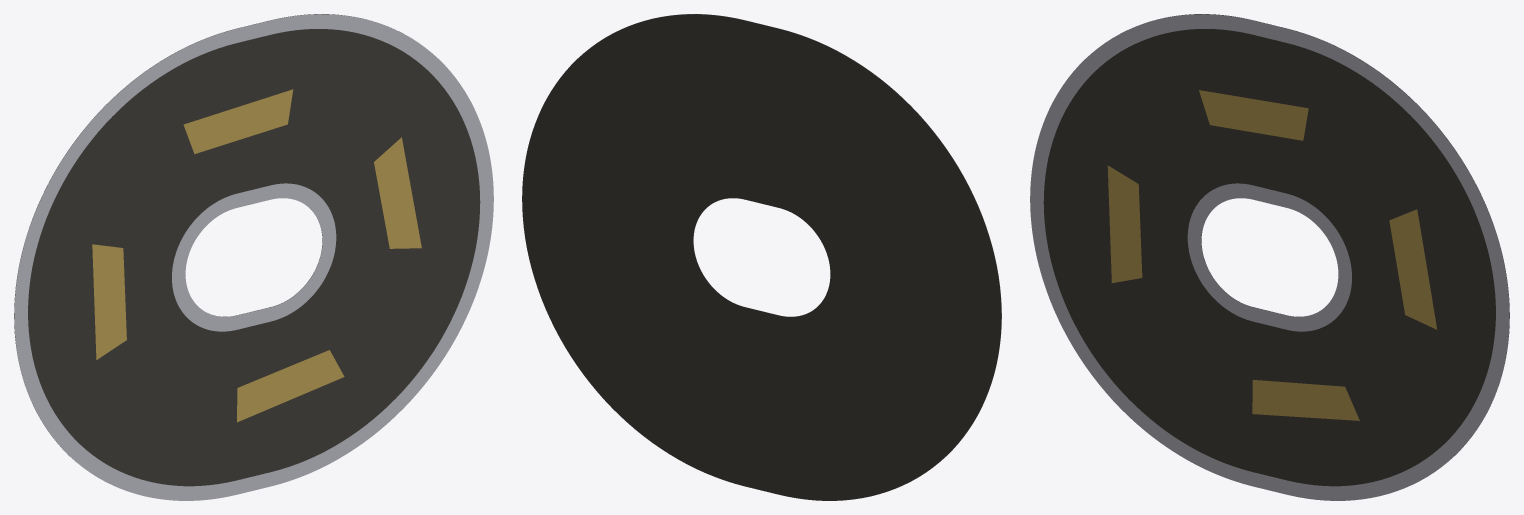
File: track.obj
The picture shows the model from 3 angles, left to right: view 1: azimuth 30°, elevation 25°; view 2: azimuth 150°, elevation 25°; view 3: azimuth 330°, elevation 25°; orthographic projection.
Bounding box in the file's own units: 1.4 × 1.3 × 0.002.
